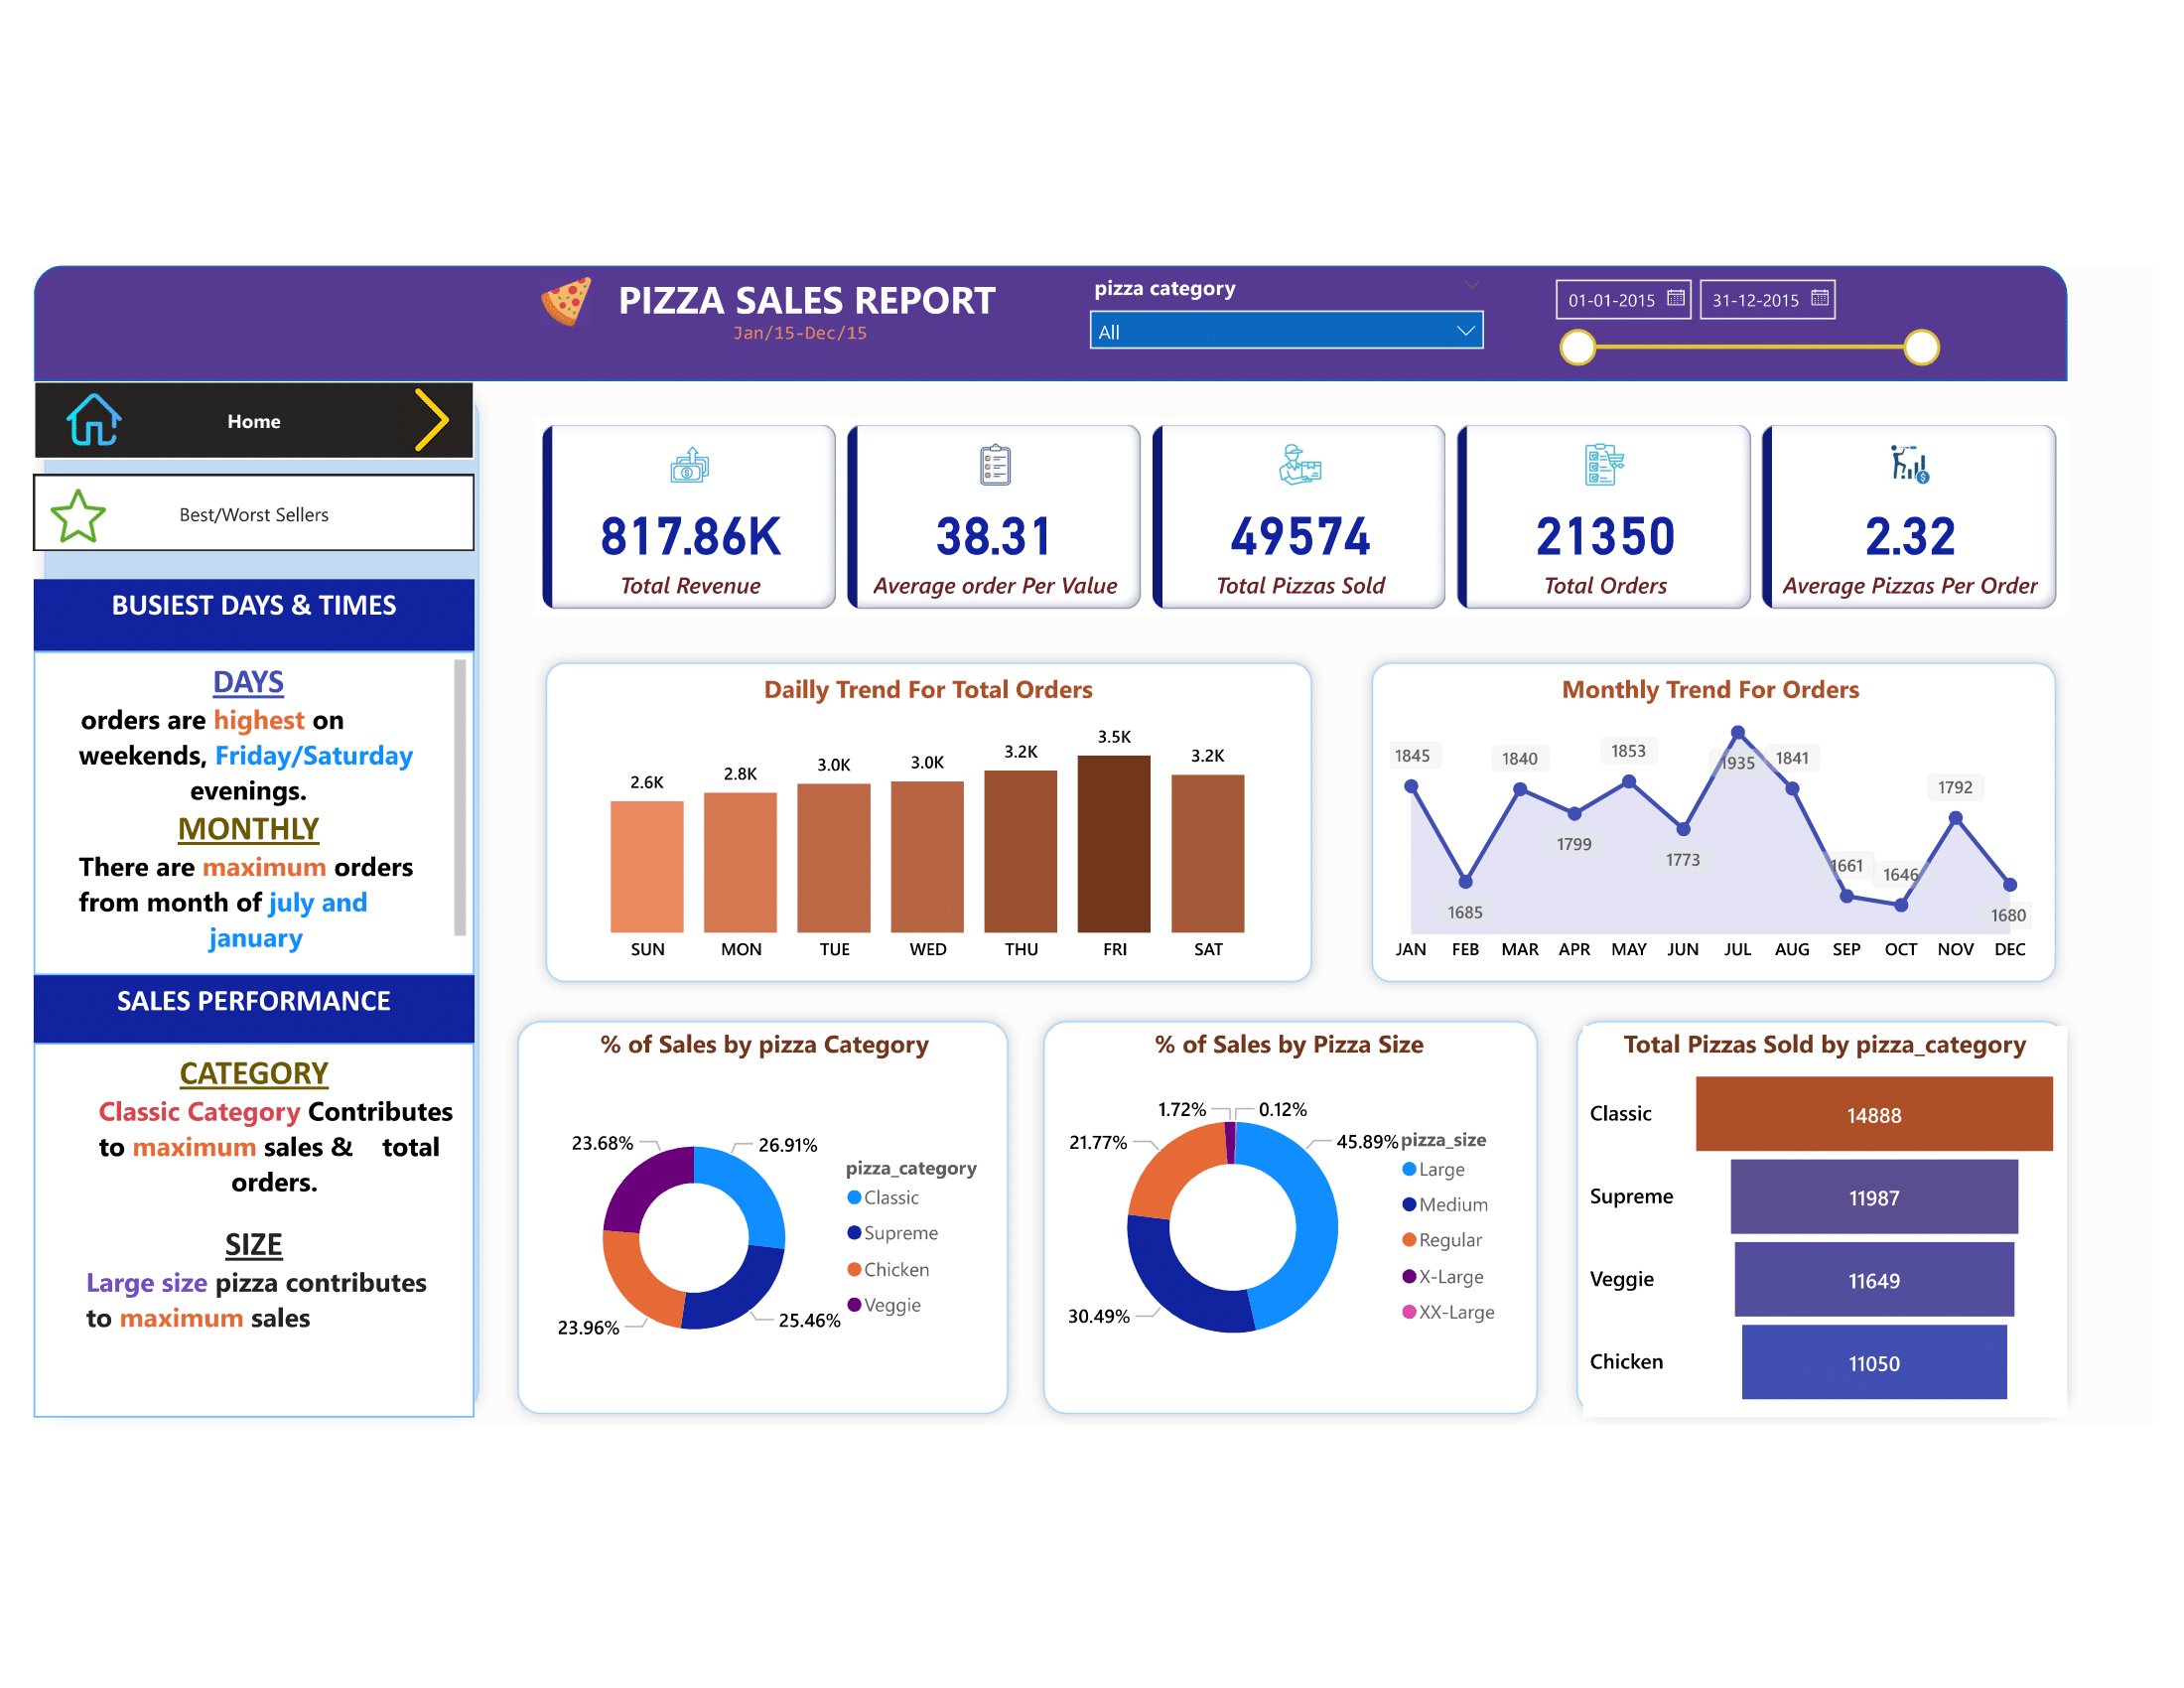

What the dashboard file says about the page in this screenshot:
{"tool":"powerbi","page":{"name":"Home ","canvas":[1500,820],"ordinal":0},"visuals":[{"type":"shape","box":[0,81.7,323.3,738.3],"z":0},{"type":"shape","box":[0,0,1440,81.7],"z":1000},{"type":"cardVisual","fields":{"Data":["public pizza_sales.Total Revenue","public pizza_sales.Average order Per Value","public pizza_sales.Total Pizzas Sold","public pizza_sales.Total Orders","public pizza_sales.Average Pizzas Per Order"]},"box":[355,108.3,1085,140],"z":2000},{"type":"textbox","box":[400,0,295,70],"z":3000},{"type":"textbox","box":[490,32.9,114.3,37.1],"z":4000},{"type":"image","box":[354.3,0,45.7,51.4],"z":5000},{"type":"shape","box":[355,273.3,558.3,241.7],"z":6000},{"type":"columnChart","title":"Dailly Trend For Total Orders","fields":{"Category":["public pizza_sales.Order Day"],"Y":["public pizza_sales.Total Orders"]},"box":[376.7,286.7,513.3,215],"z":7000},{"type":"shape","box":[940,273.3,500,241.7],"z":8000},{"type":"areaChart","title":"Monthly Trend For Orders","fields":{"Y":["public pizza_sales.Total Orders"],"Category":["public pizza_sales.Order Month"]},"box":[955,286.7,465,215],"z":9000},{"type":"shape","box":[706.7,526.7,366.7,293.3],"z":10000},{"type":"shape","box":[1085,526.7,363.3,293.3],"z":11000},{"type":"shape","box":[335,526.7,363.3,293.3],"z":12000},{"type":"donutChart","title":"% of  Sales by pizza Category","fields":{"Category":["public pizza_sales.pizza_category"],"Y":["public pizza_sales.Total Revenue"]},"box":[355,538.3,325,276.7],"z":13000},{"type":"donutChart","title":"% of  Sales by Pizza Size","fields":{"Category":["public pizza_sales.pizza_size"],"Y":["public pizza_sales.Total Revenue"]},"box":[725,538.3,328.3,261.7],"z":14000},{"type":"funnel","fields":{"Category":["public pizza_sales.pizza_category"],"Y":["public pizza_sales.Total Pizzas Sold"]},"box":[1096.7,538.3,343.3,276.7],"z":15000},{"type":"textbox","box":[0,221.7,311.7,51.7],"z":16000},{"type":"textbox","box":[0,550,311.7,265],"z":17000},{"type":"textbox","box":[0,501.7,311.7,48.3],"z":18000},{"type":"textbox","box":[0,273.3,311.7,228.3],"z":19000},{"type":"slicer","title":"Pizza Category","fields":{"Values":["public pizza_sales.pizza_category"]},"box":[738.3,0,298.3,70],"z":20000},{"type":"slicer","title":"Pizza Category","fields":{"Values":["public pizza_sales.order_date"]},"box":[1065,0,293.3,81.7],"z":21000},{"type":"pageNavigator","box":[0,81.7,311.7,55],"z":22000},{"type":"pageNavigator","box":[0,148.3,311.7,53.3],"z":23000},{"type":"image","box":[251.7,81.7,60,55],"z":24000},{"type":"image","box":[11.7,85,61.7,48.3],"z":25000},{"type":"image","box":[0,153.3,61.7,48.3],"z":26000}]}

Visuals, with their boxes on the page's 1500x820 design canvas (x1, y1, x2, y2). These are canvas units, not pixel positions in the 2184x1688 screenshot, which may show the page scaled, cropped or inside an application window:
shape: (0,82,323,820)
shape: (0,0,1440,82)
cardVisual - public pizza_sales.Total Revenue x public pizza_sales.Average order Per Value: (355,108,1440,248)
textbox: (400,0,695,70)
textbox: (490,33,604,70)
image: (354,0,400,51)
shape: (355,273,913,515)
"Dailly Trend For Total Orders" columnChart: (377,287,890,502)
shape: (940,273,1440,515)
"Monthly Trend For Orders" areaChart: (955,287,1420,502)
shape: (707,527,1073,820)
shape: (1085,527,1448,820)
shape: (335,527,698,820)
"% of  Sales by pizza Category" donutChart: (355,538,680,815)
"% of  Sales by Pizza Size" donutChart: (725,538,1053,800)
funnel - public pizza_sales.pizza_category x public pizza_sales.Total Pizzas Sold: (1097,538,1440,815)
textbox: (0,222,312,273)
textbox: (0,550,312,815)
textbox: (0,502,312,550)
textbox: (0,273,312,502)
"Pizza Category" slicer: (738,0,1037,70)
"Pizza Category" slicer: (1065,0,1358,82)
pageNavigator: (0,82,312,137)
pageNavigator: (0,148,312,202)
image: (252,82,312,137)
image: (12,85,73,133)
image: (0,153,62,202)
